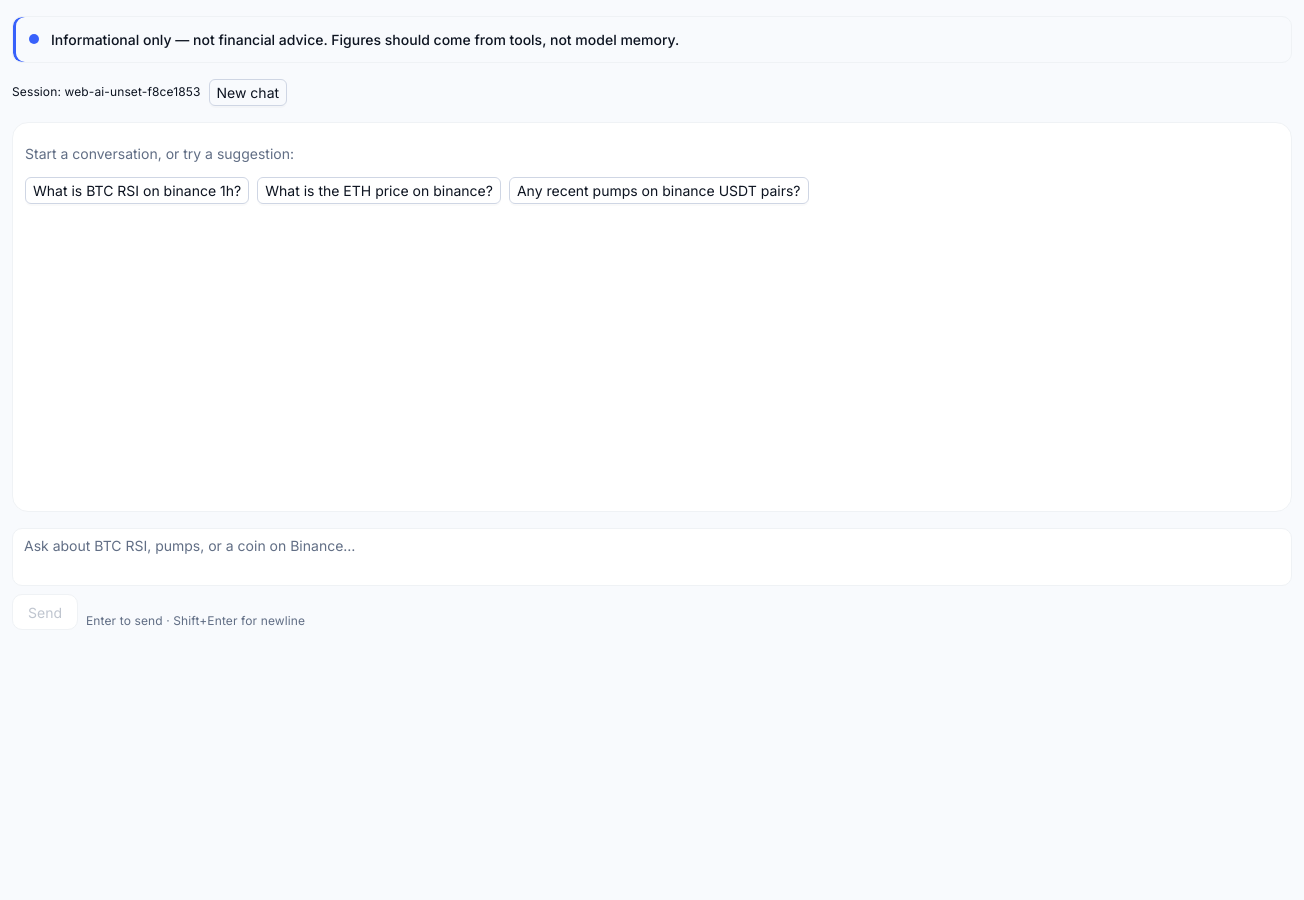
Test: AiChatPage › sends a message and shows the reply
Type "What is BTC RSI?" into the text box at x=652, y=557, box [12,528,1292,586]
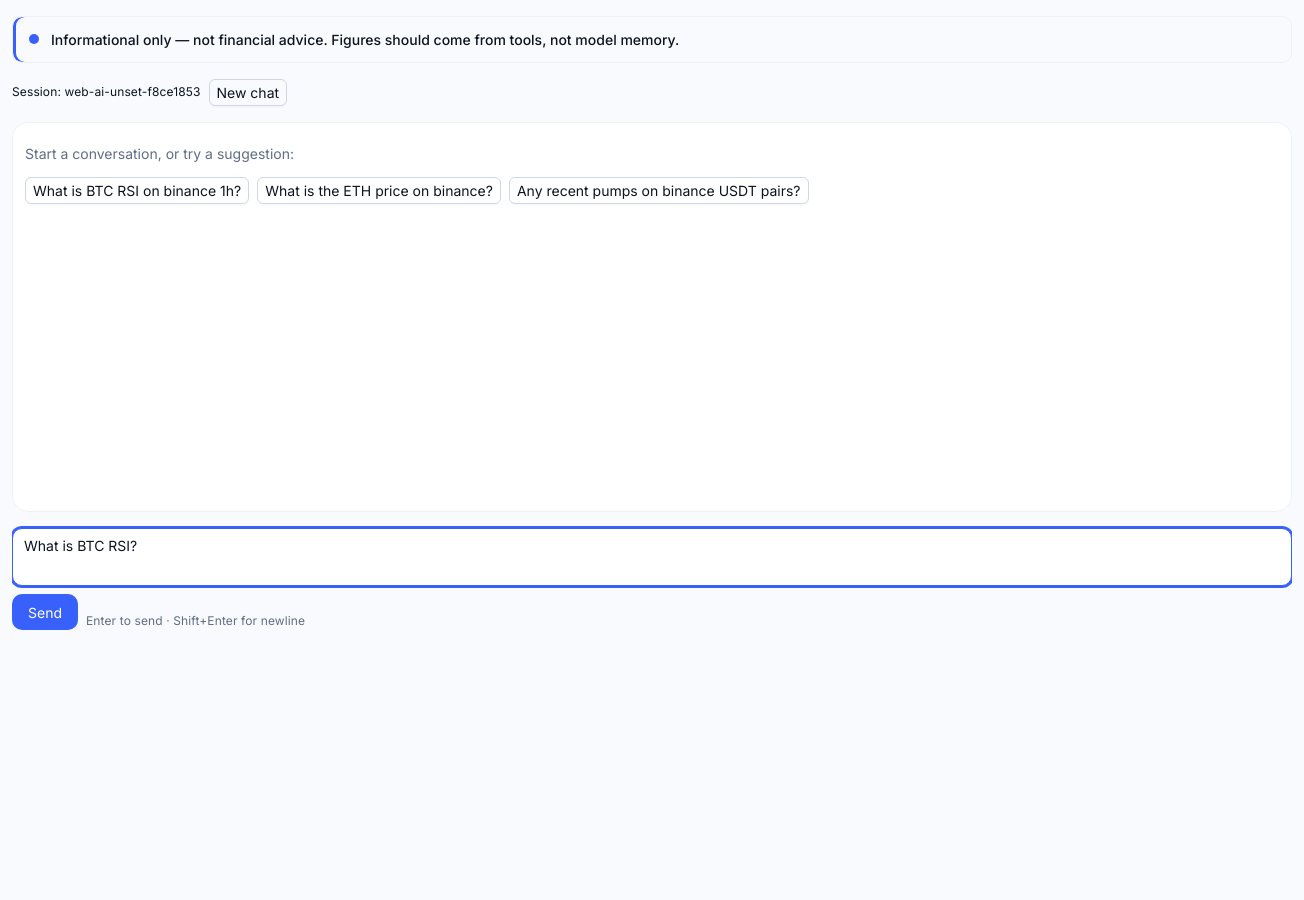
Click the button "Send" at x=45, y=612, box [12,594,78,630]
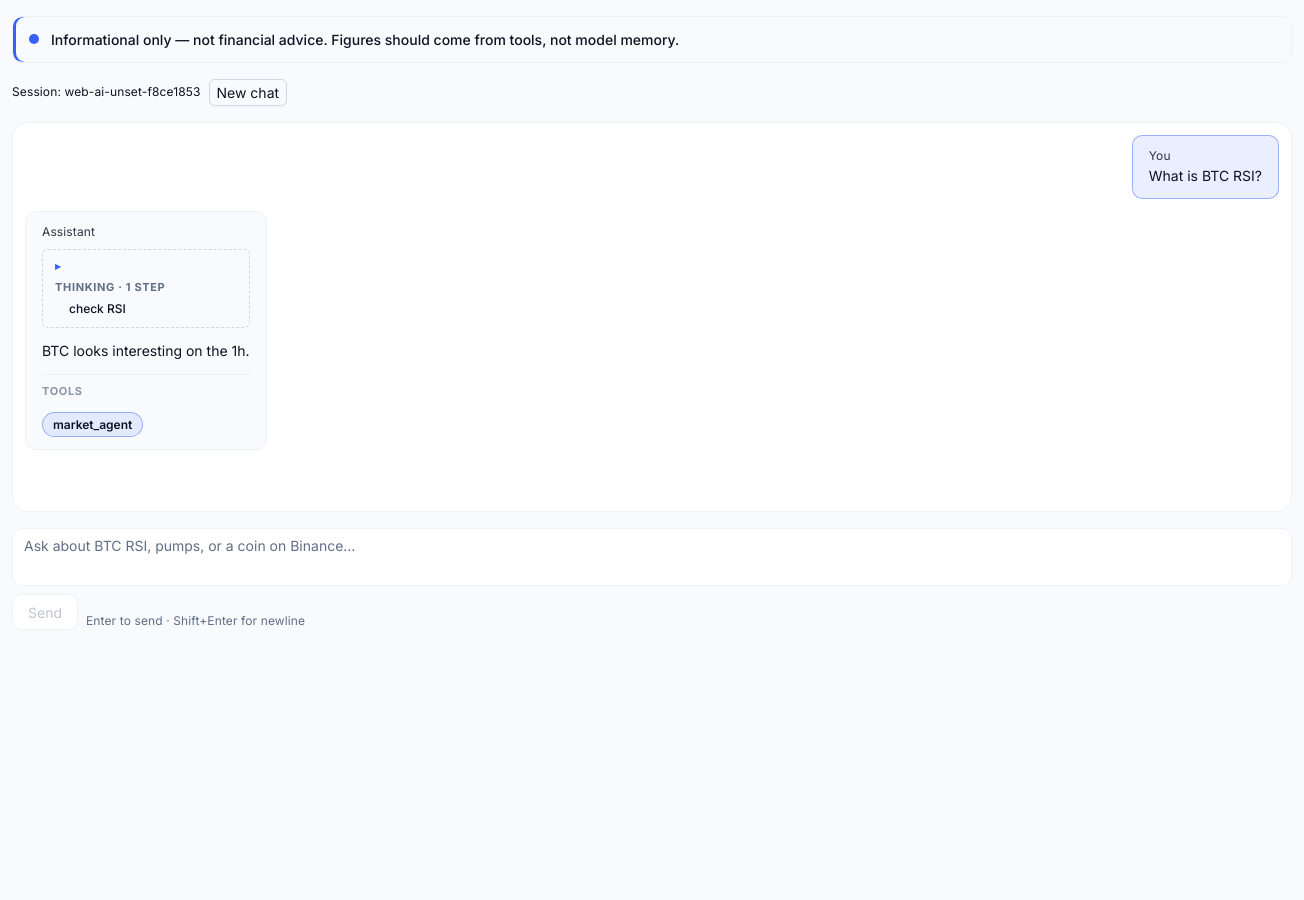
Result: the text "What is BTC RSI?" is shown at [1149,165,1262,186]
Result: the text "BTC looks interesting on the 1h." is shown at [42,342,250,359]
Result: the heading "Thinking · 1 step check RSI" is shown
Click the heading "Thinking · 1 step check RSI" at x=110, y=287, box [55,280,165,316]
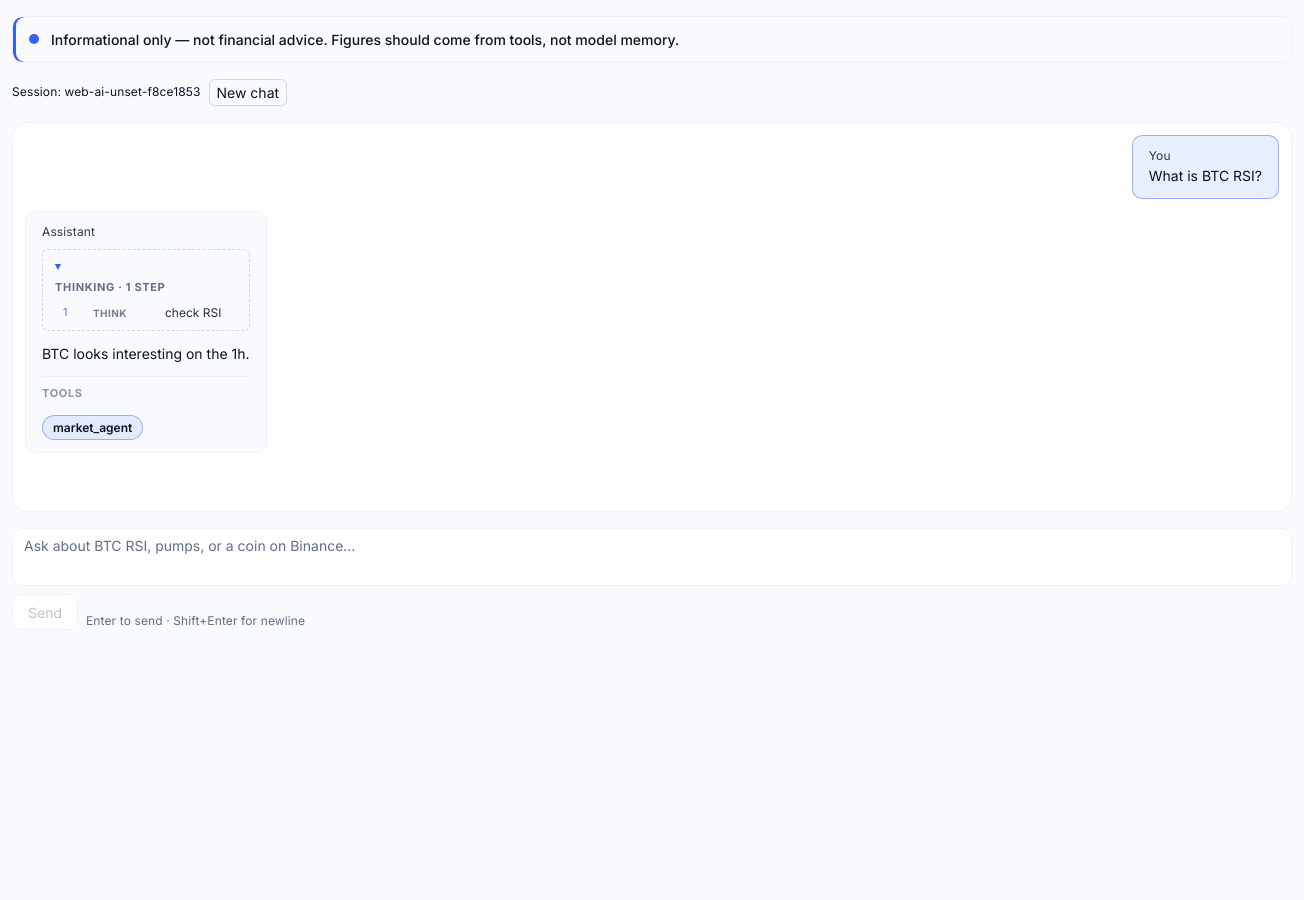
Result: the text "check RSI" is shown at [165,305,221,320]
Result: the text "market_agent" is shown at [42,414,143,440]
Result: the text "Think" is shown at [93,307,127,319]
